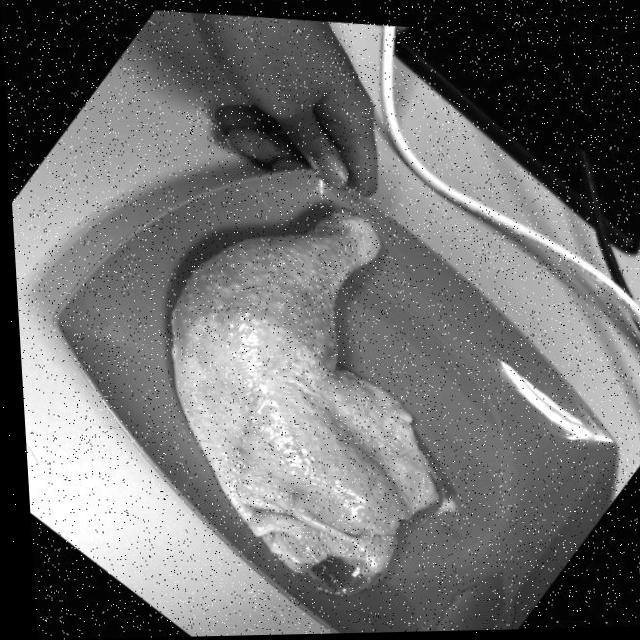quater: (160, 202, 434, 594)
